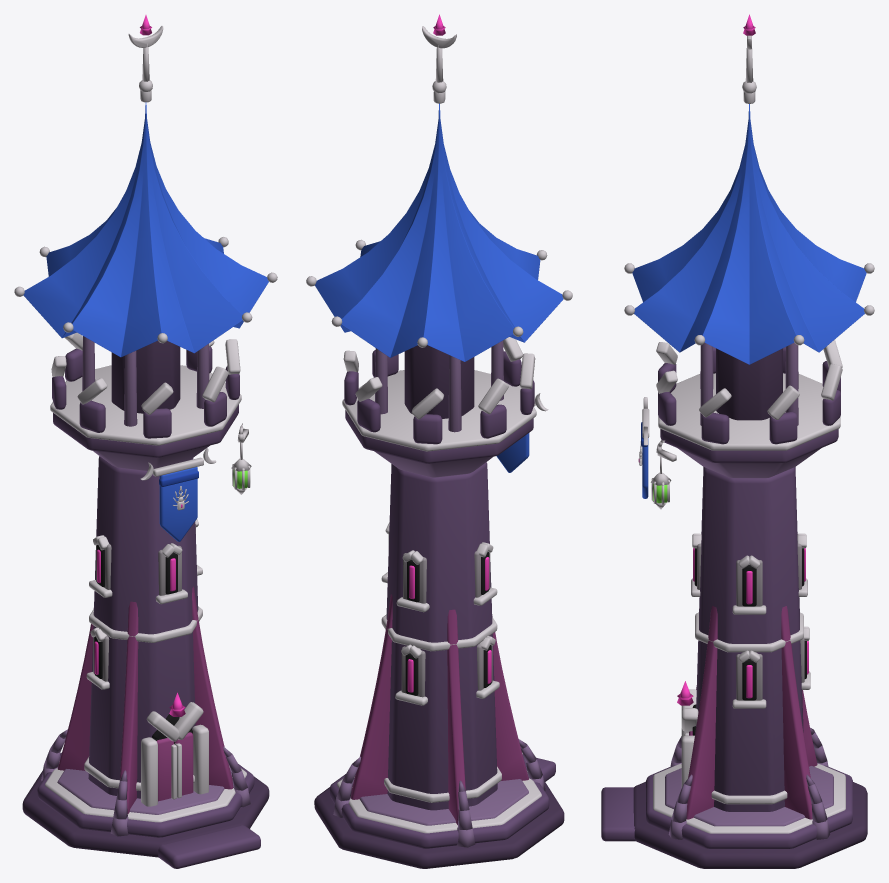
The model's file is Watchtower.glb.
3 renders of one model, left to right at view 1: azimuth 30°, elevation 25°; view 2: azimuth 150°, elevation 25°; view 3: azimuth 270°, elevation 25°, orthographic.
Parts seen in each view (by area): view 1: Watchtower; view 2: Watchtower; view 3: Watchtower.
Part boxes in pixels (left/top/right/bottom): Watchtower: left=14, top=15, right=277, bottom=868; Watchtower: left=306, top=14, right=572, bottom=868; Watchtower: left=601, top=14, right=874, bottom=868.
Bounding box in the file's own units: 2.07 × 7.39 × 2.27.
